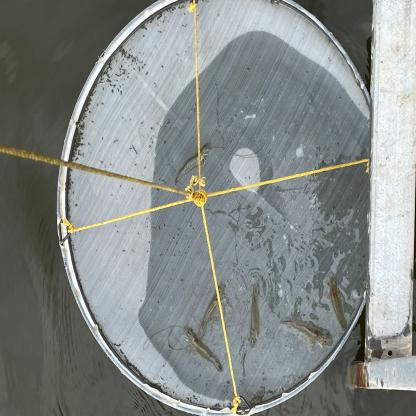shrimp: (183, 326, 223, 373), (196, 281, 227, 340), (279, 319, 333, 347), (175, 142, 211, 183), (326, 275, 347, 332), (247, 284, 260, 348)
